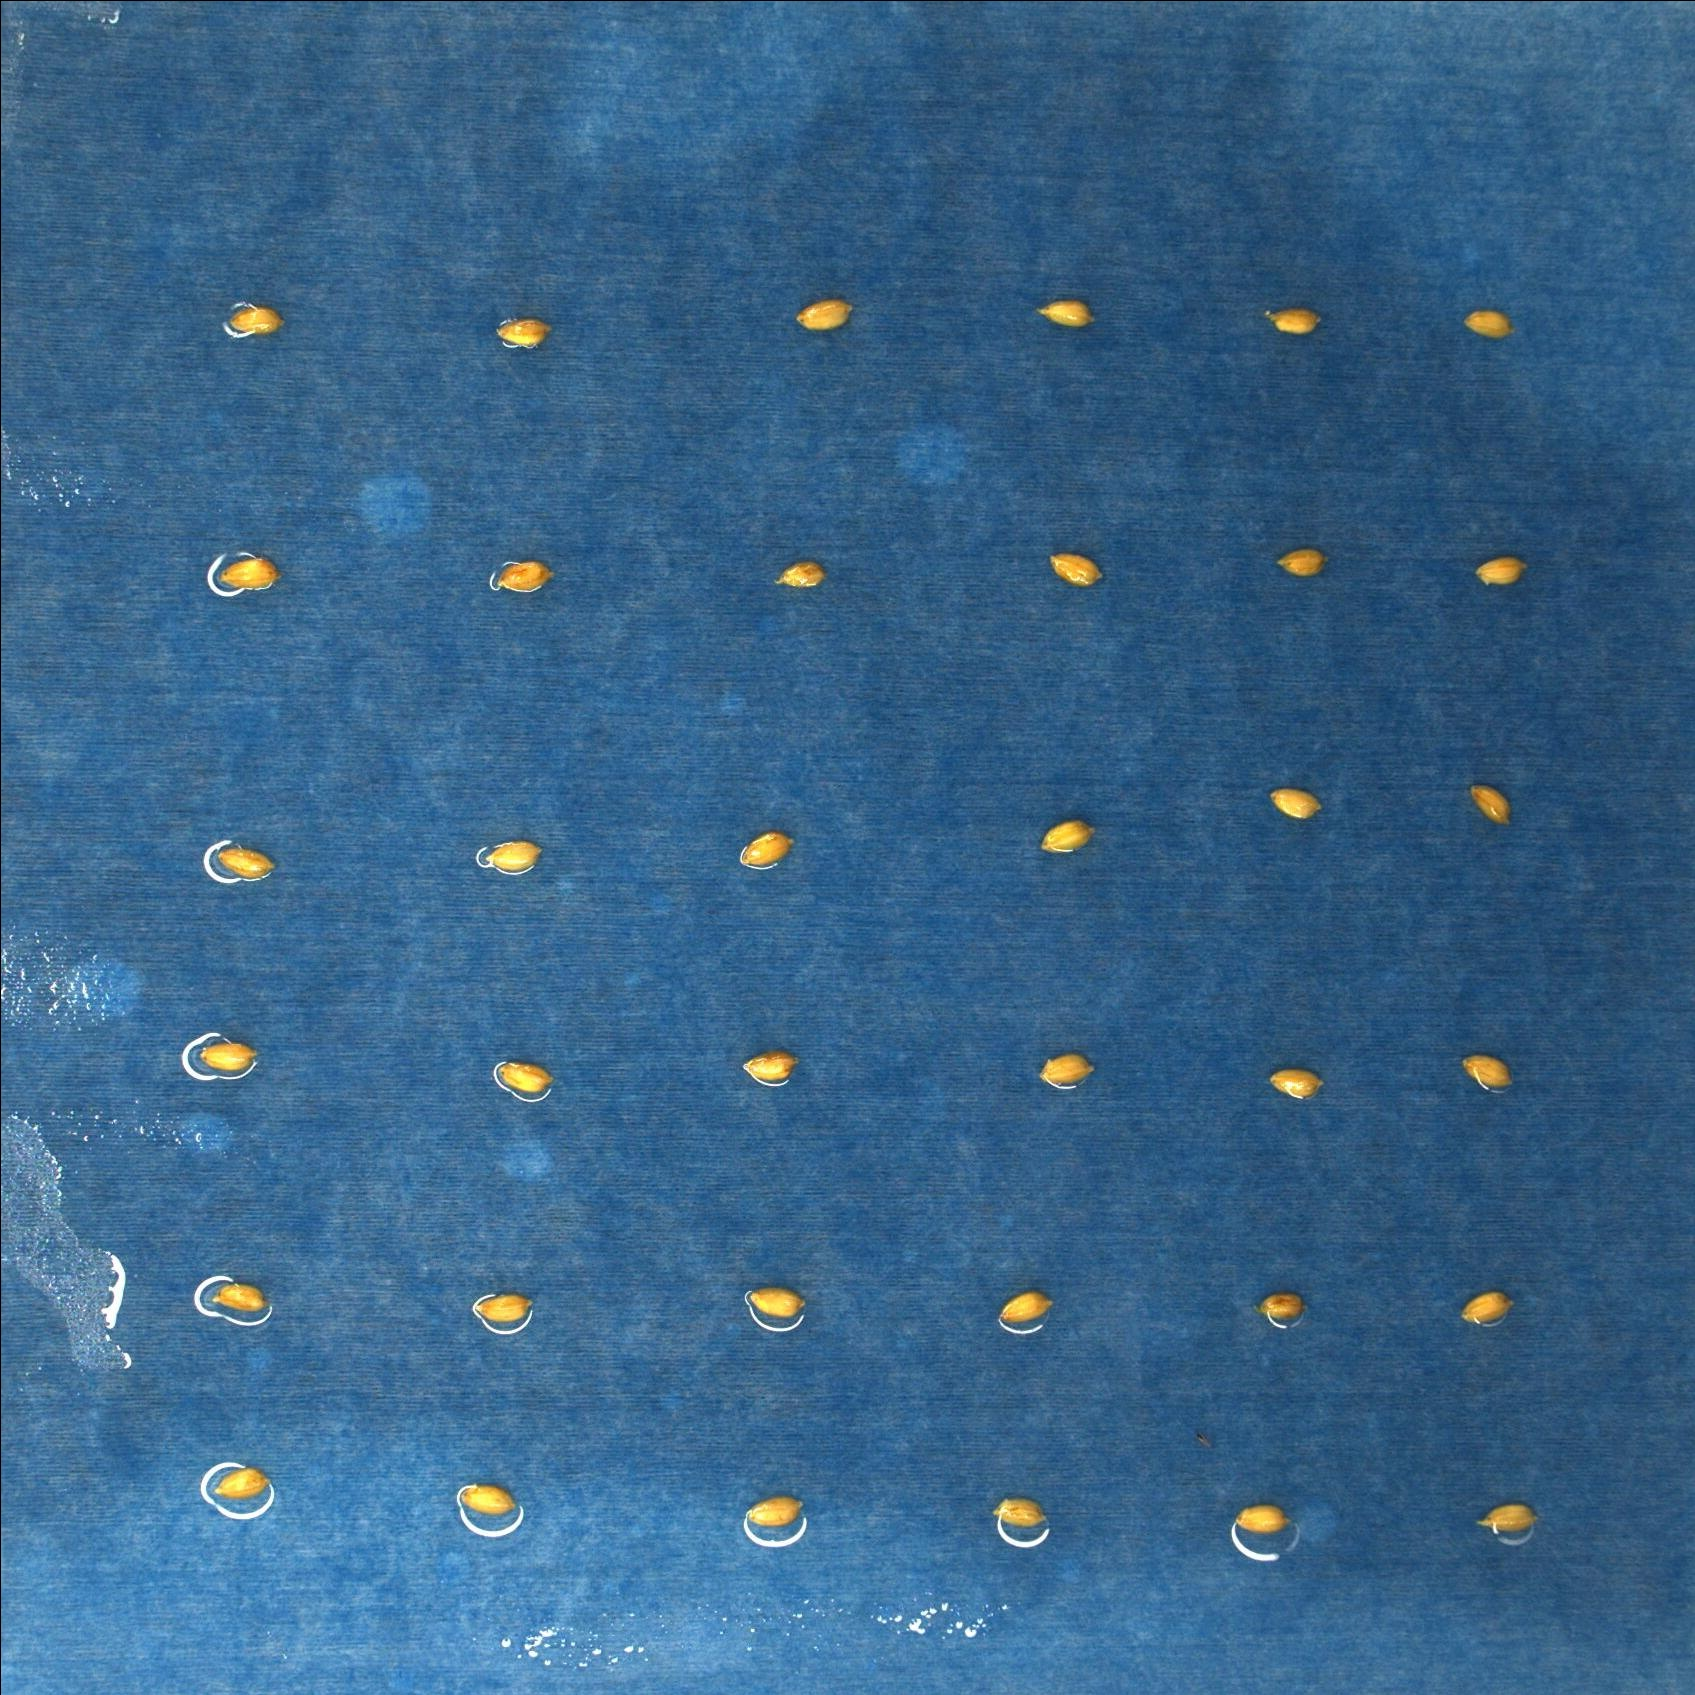not sprout: (216, 841, 278, 880), (210, 1464, 272, 1503), (1038, 818, 1097, 857), (216, 554, 282, 588), (740, 827, 795, 869), (1475, 1503, 1538, 1537), (1461, 1051, 1516, 1090), (1459, 1291, 1520, 1327), (1034, 298, 1094, 332), (1049, 554, 1101, 594), (197, 1038, 258, 1073), (748, 1285, 809, 1319), (798, 298, 855, 334), (1267, 304, 1321, 341), (1470, 781, 1513, 827), (747, 1495, 806, 1529), (484, 840, 540, 875), (473, 1293, 534, 1326), (1273, 546, 1330, 581), (1461, 307, 1518, 341), (495, 1060, 553, 1094), (1001, 1291, 1057, 1326), (1271, 1066, 1327, 1101), (990, 1496, 1051, 1527), (1268, 785, 1326, 818), (227, 306, 286, 337), (494, 318, 554, 348), (458, 1485, 518, 1515), (1042, 1055, 1096, 1088), (492, 560, 551, 590), (211, 1284, 270, 1313), (744, 1051, 795, 1083), (1473, 557, 1526, 587), (778, 559, 827, 590), (1257, 1291, 1307, 1322), (1236, 1504, 1288, 1532)
